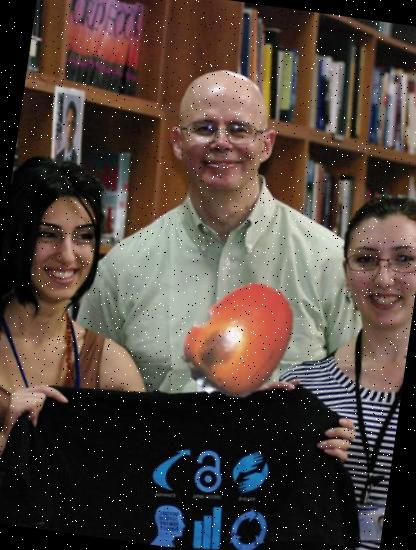Kaki: (172, 270, 314, 410)
